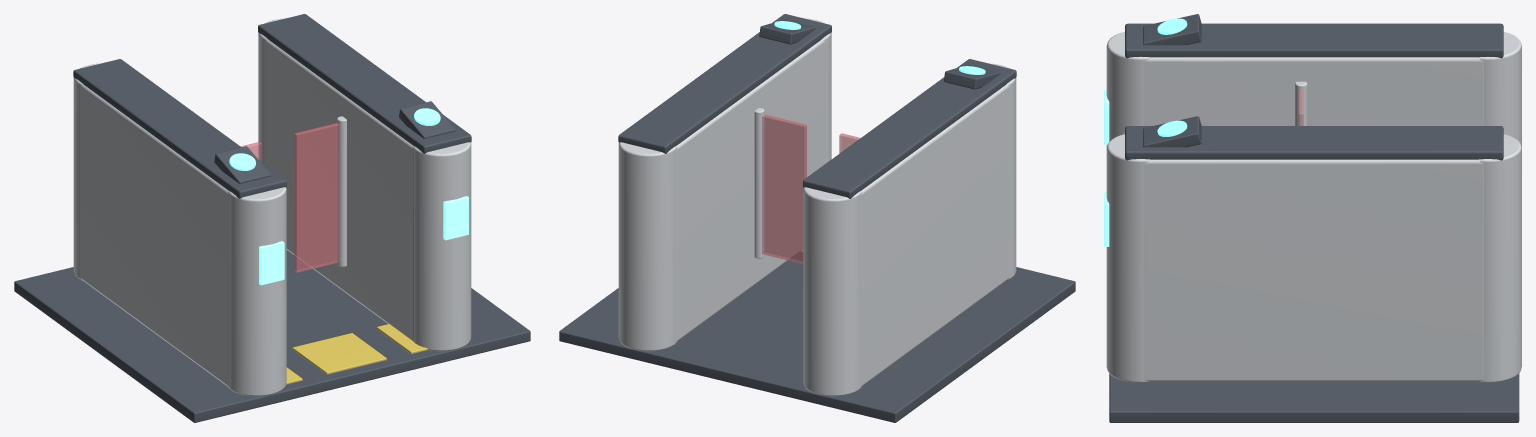
The model's file is subway_turnstile_gate_set_v10.glb.
3 renders of one model, left to right at view 1: azimuth 30°, elevation 25°; view 2: azimuth 150°, elevation 25°; view 3: azimuth 270°, elevation 25°, orthographic. The views are drawn at different scales.
Visible parts, largest first — view 1: V10_GatePedestalBody, V10_GatePedestalBody.001, V10_StationFloorPad, V10_GateFrontNose, V10_GateFrontNose.001, V10_GateTopDeckGlass, V10_GateTopDeckGlass.001, V10_GlassBarrierFlap.001, V10_TactileGuideTile.001, V10_FlapHingeShaft.001, V10_GateRearNose, V10_FrontPassIndicator (+5 smaller); view 2: V10_GatePedestalBody, V10_StationFloorPad, V10_GatePedestalBody.001, V10_GateRearNose.001, V10_GateRearNose, V10_GateTopDeckGlass, V10_GateTopDeckGlass.001, V10_GlassBarrierFlap.001, V10_FlapHingeShaft.001, V10_GateFrontNose, V10_GateFrontNose.001, V10_CardTapReaderSlant.001 (+1 smaller); view 3: V10_GatePedestalBody.001, V10_GatePedestalBody, V10_StationFloorPad, V10_GateTopDeckGlass, V10_GateTopDeckGlass.001, V10_GateFrontNose.001, V10_GateRearNose.001, V10_GateRearNose, V10_GateFrontNose, V10_CardTapReaderSlant, V10_CardTapReaderSlant.001, V10_FlapHingeShaft.
Part boxes in pixels (x1,y1,x2,y2): V10_GatePedestalBody: [79, 85, 229, 386]; V10_GatePedestalBody.001: [264, 40, 413, 341]; V10_StationFloorPad: [14, 250, 530, 422]; V10_GateFrontNose: [228, 187, 286, 396]; V10_GateFrontNose.001: [412, 142, 471, 351]; V10_GateTopDeckGlass: [73, 59, 286, 198]; V10_GateTopDeckGlass.001: [258, 14, 471, 153]; V10_GlassBarrierFlap.001: [294, 123, 339, 272]; V10_TactileGuideTile.001: [292, 333, 386, 374]; V10_FlapHingeShaft.001: [337, 116, 346, 266]; V10_GateRearNose: [73, 63, 99, 280]; V10_FrontPassIndicator: [259, 241, 284, 285]; V10_GatePedestalBody: [860, 85, 1010, 386]; V10_StationFloorPad: [559, 253, 1075, 422]; V10_GatePedestalBody.001: [676, 40, 825, 341]; V10_GateRearNose.001: [618, 142, 677, 351]; V10_GateRearNose: [803, 187, 861, 396]; V10_GateTopDeckGlass: [803, 59, 1016, 198]; V10_GateTopDeckGlass.001: [618, 14, 831, 153]; V10_GlassBarrierFlap.001: [762, 114, 806, 263]; V10_FlapHingeShaft.001: [754, 108, 764, 258]; V10_GateFrontNose: [990, 63, 1016, 280]; V10_GateFrontNose.001: [804, 18, 831, 163]; V10_CardTapReaderSlant.001: [759, 19, 815, 44]; V10_GatePedestalBody.001: [1144, 159, 1483, 381]; V10_GatePedestalBody: [1144, 57, 1483, 125]; V10_StationFloorPad: [1109, 373, 1519, 422]; V10_GateTopDeckGlass: [1125, 23, 1503, 58]; V10_GateTopDeckGlass.001: [1125, 126, 1503, 160]; V10_GateFrontNose.001: [1106, 134, 1150, 382]; V10_GateRearNose.001: [1477, 134, 1521, 382]; V10_GateRearNose: [1477, 32, 1521, 147]; V10_GateFrontNose: [1106, 32, 1151, 147]; V10_CardTapReaderSlant: [1143, 14, 1201, 45]; V10_CardTapReaderSlant.001: [1143, 116, 1201, 147]; V10_FlapHingeShaft: [1295, 81, 1307, 125].
Size of the model in its own units: 1.68 by 1.08 by 1.59.
